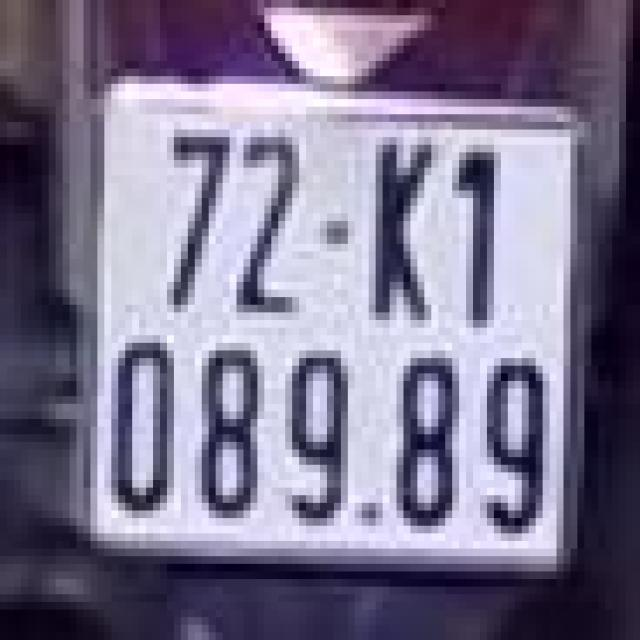0: (83, 324, 181, 529)
1: (452, 133, 515, 324)
2: (237, 114, 313, 328)
7: (153, 110, 237, 301)
8: (386, 358, 456, 549), (195, 324, 257, 529)
9: (268, 339, 358, 537), (473, 335, 557, 541)
K: (355, 107, 445, 350)
